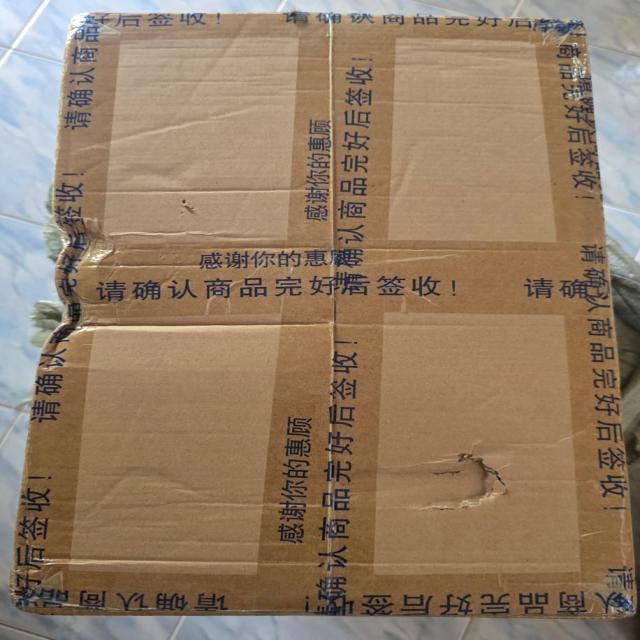carton_box: (5, 6, 640, 640)
package_damage: (21, 188, 139, 375), (428, 439, 531, 521)
